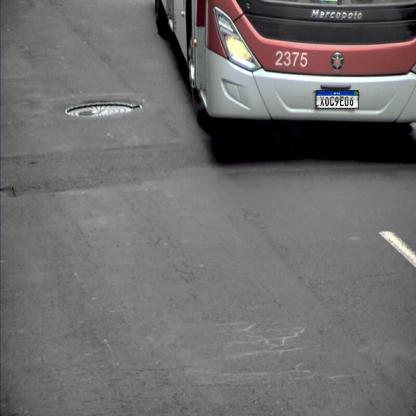PlacaM: (316, 90, 358, 109)
